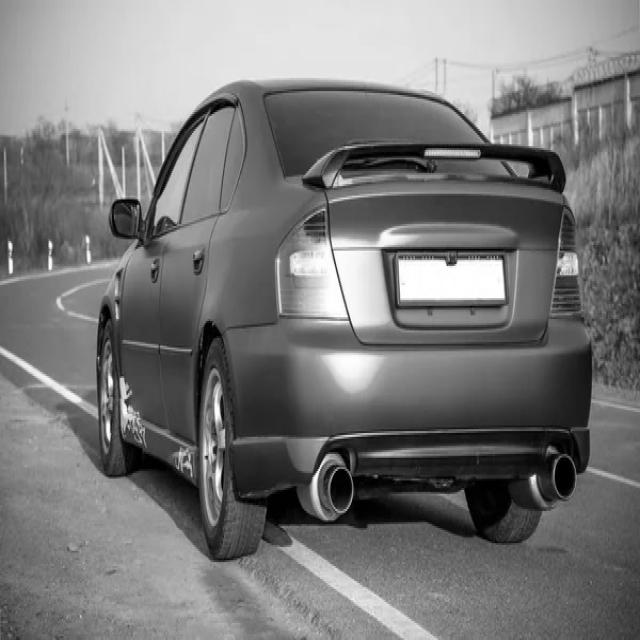Car: (95, 80, 593, 559)
